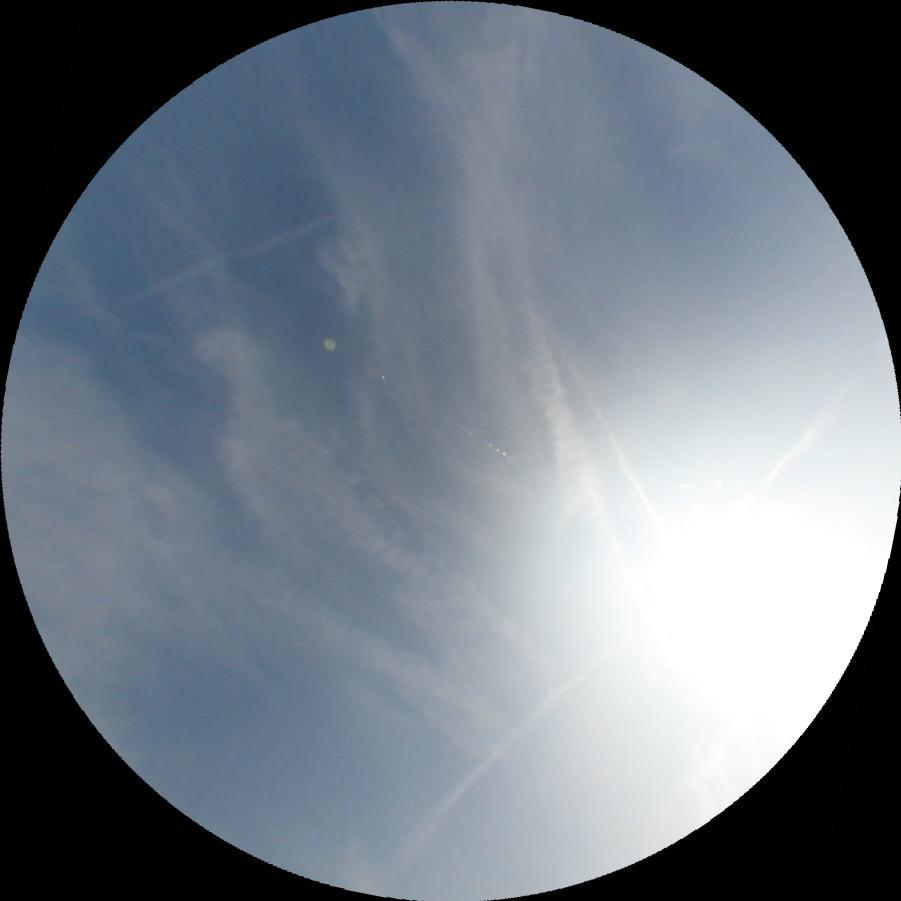contrail old: (380, 412, 827, 879), (552, 332, 671, 541)
contrail veryold: (134, 307, 574, 737), (173, 499, 509, 768), (495, 290, 626, 576), (110, 212, 337, 307)
